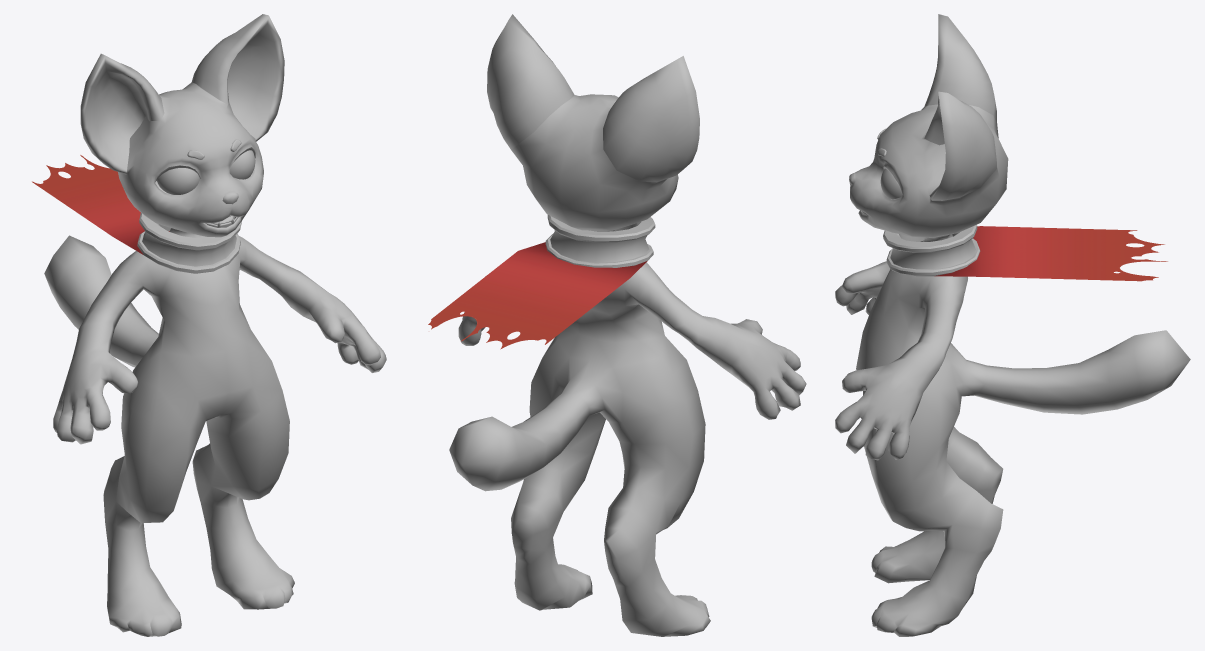
Rendered from Test_Main_Character_Static.fbx.
The picture shows the model from 3 angles, left to right: view 1: azimuth 30°, elevation 25°; view 2: azimuth 150°, elevation 25°; view 3: azimuth 270°, elevation 25°; orthographic projection. The views are drawn at different scales.
Visible parts, largest first — view 1: Body_00, Cape_00, Cape_Collar_00, Eye_R, Eye_L; view 2: Body_00, Cape_00, Cape_Collar_00; view 3: Body_00, Cape_00, Cape_Collar_00.
Part boxes in pixels (bbox=[...]): Body_00: bbox=[44, 14, 386, 636]; Cape_00: bbox=[32, 155, 169, 254]; Cape_Collar_00: bbox=[137, 213, 241, 273]; Eye_R: bbox=[157, 168, 199, 194]; Eye_L: bbox=[229, 150, 255, 179]; Body_00: bbox=[449, 14, 806, 636]; Cape_00: bbox=[428, 242, 647, 349]; Cape_Collar_00: bbox=[545, 215, 655, 267]; Body_00: bbox=[835, 14, 1190, 636]; Cape_00: bbox=[934, 226, 1167, 281]; Cape_Collar_00: bbox=[883, 224, 980, 276].
Size of the model in its own units: 63.5 by 106 by 62.86.
2 materials, 1 textured.
